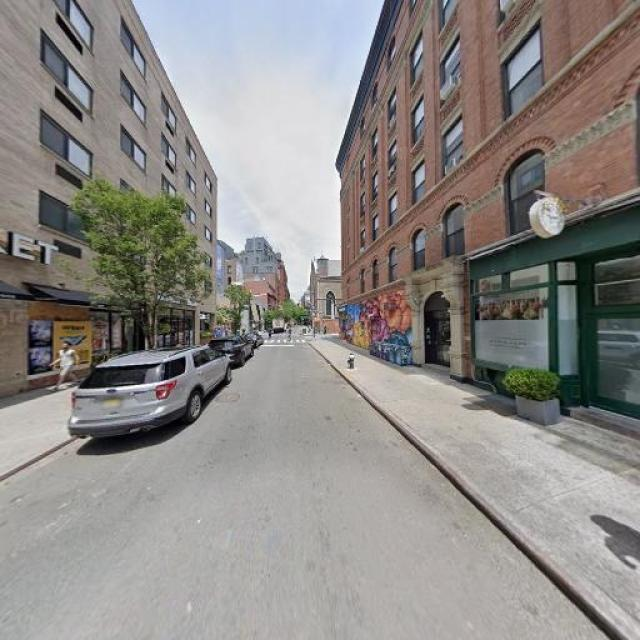Building: (343, 1, 640, 433), (1, 1, 217, 393)
